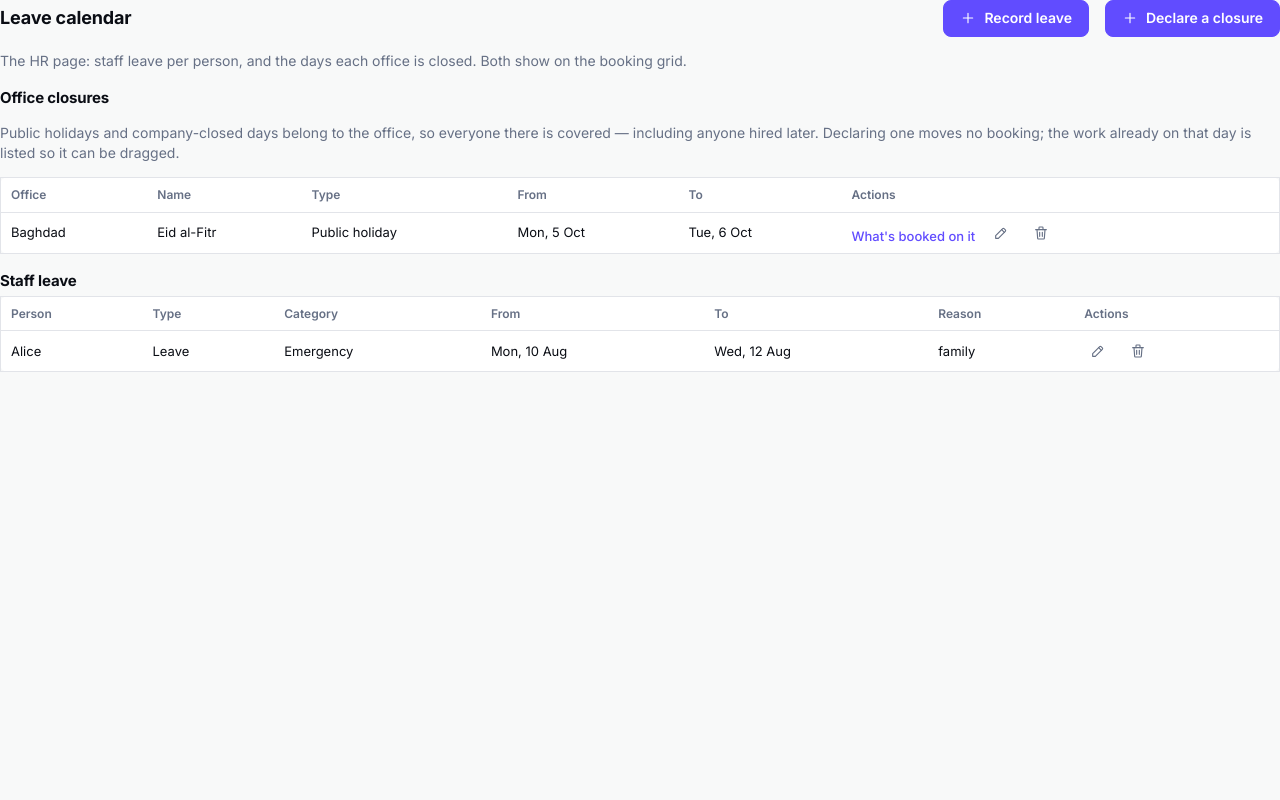
Test case: LeavePage — leave calendar (L1.7) › rejects an end date before the start date
The width and height of the screenshot is (1280, 800).
Click the button with test id "leave-add" at point(1016, 18), box top-left (943, 0), bottom-right (1089, 37)
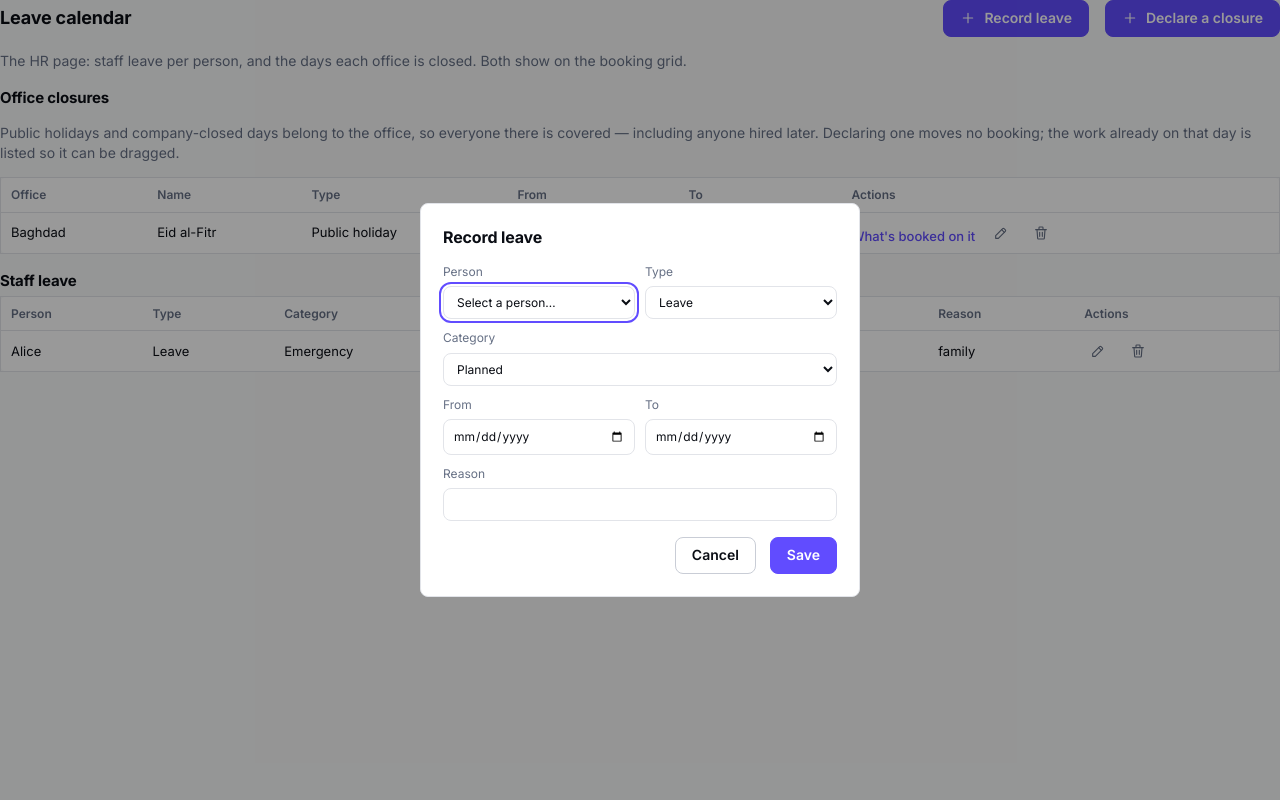
Select "Alice" in the dropdown with test id "leave-resource" at point(539, 303), box top-left (443, 286), bottom-right (635, 319)
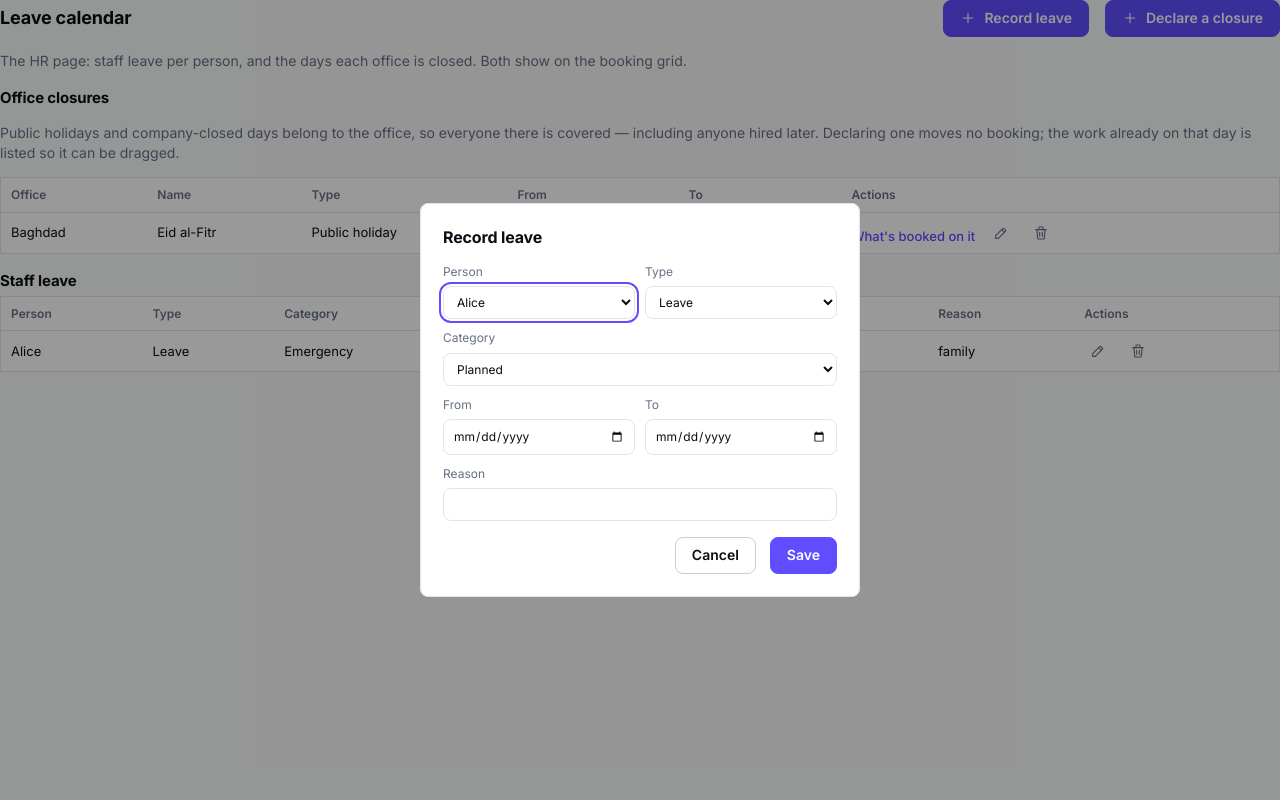
Type "2026-09-05" into the date field with test id "leave-start" at point(539, 437), box top-left (443, 419), bottom-right (635, 455)
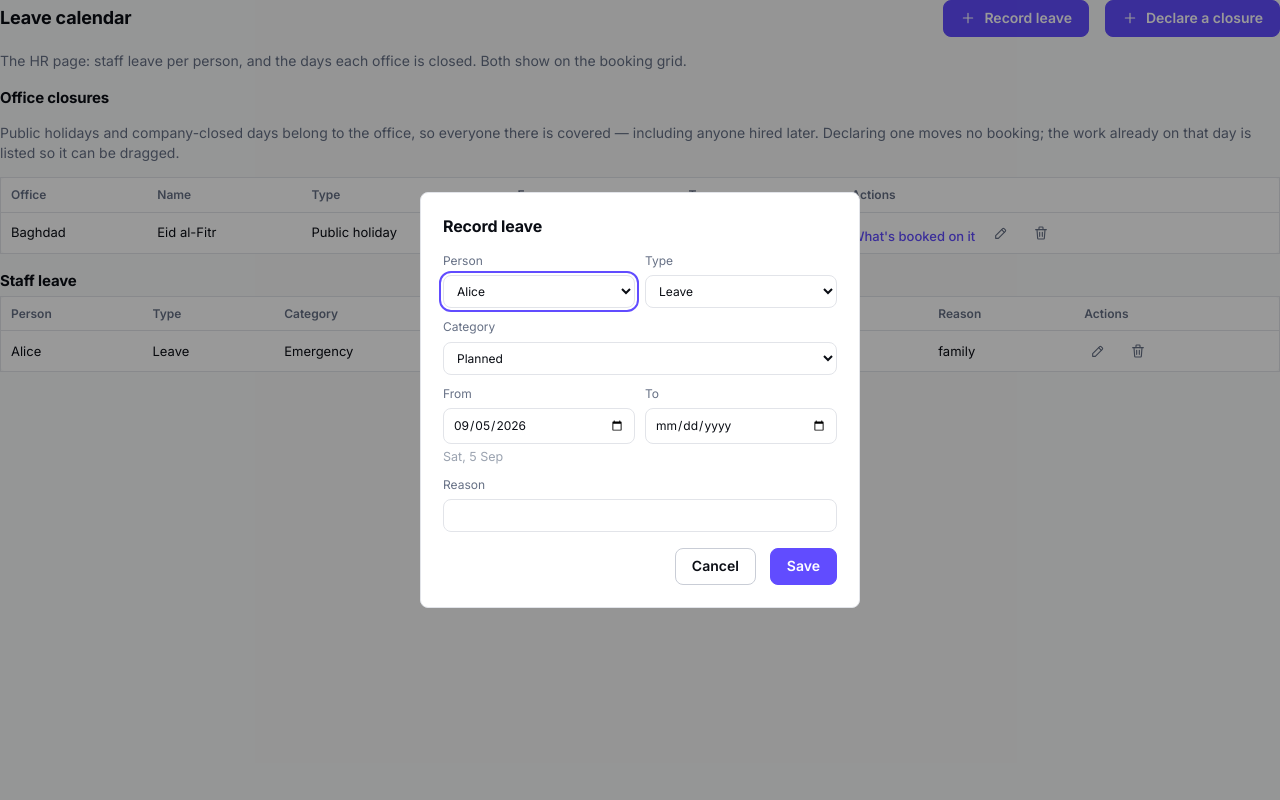
Type "2026-09-01" into the date field with test id "leave-end" at point(741, 426), box top-left (645, 408), bottom-right (837, 444)
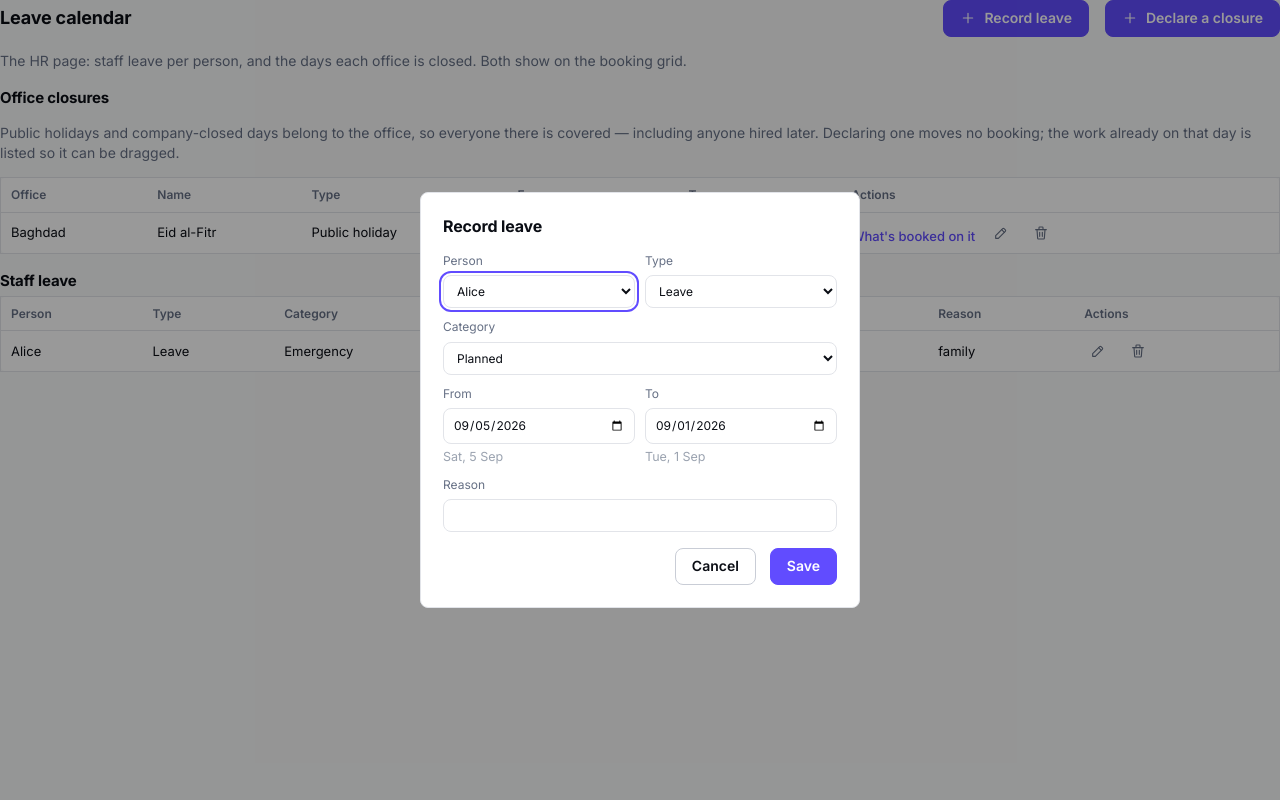
Submit the dialog with test id "leave-dialog", box top-left (420, 192), bottom-right (860, 608)
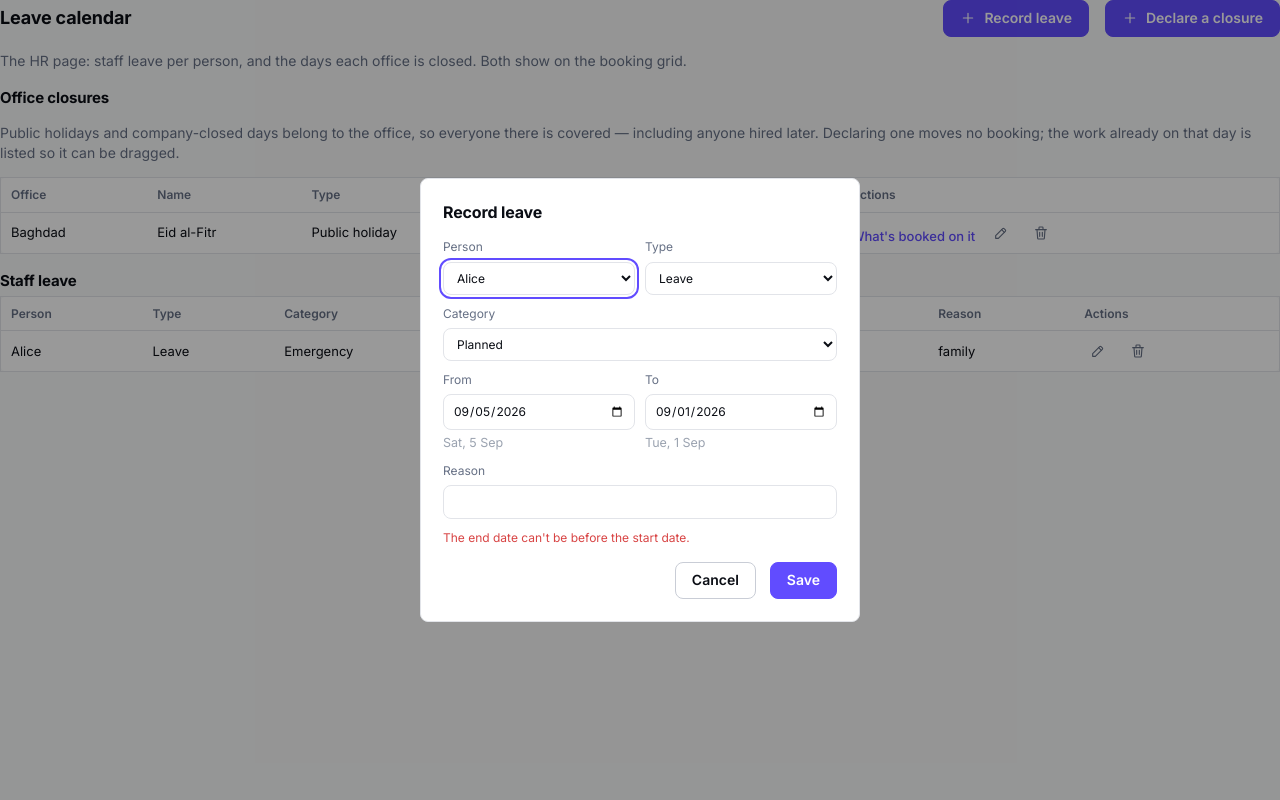
Expected: the message "The end date can't be before the start date." is shown, top-left (443, 530), bottom-right (690, 545)
